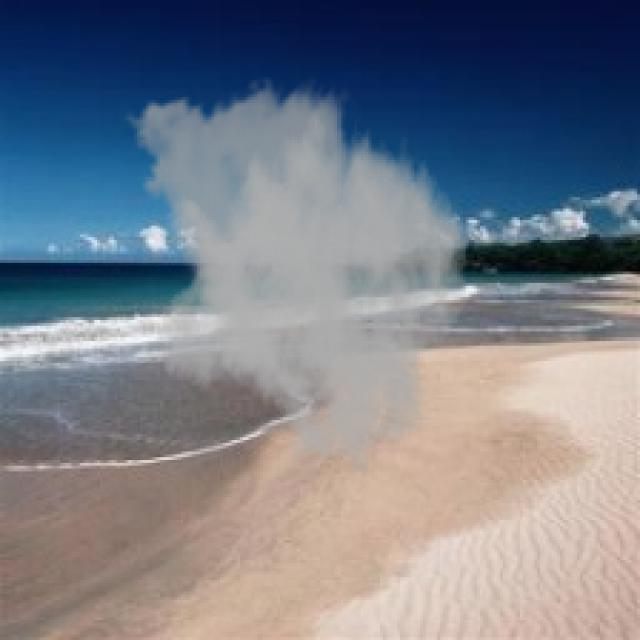smoke: (120, 74, 469, 477)
